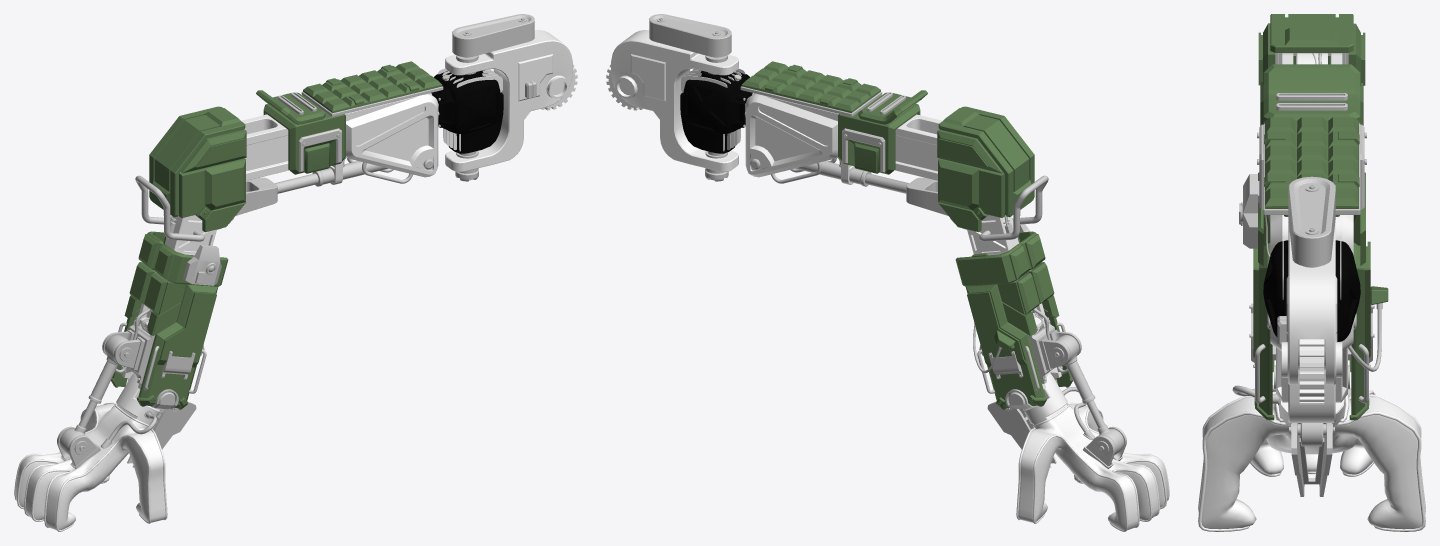
The model's file is Patte_avant_tex_meshv2.fbx.
3 views of the same model, side by side, from view 1: azimuth 30°, elevation 25°; view 2: azimuth 150°, elevation 25°; view 3: azimuth 270°, elevation 25° (orthographic). The views are drawn at different scales.
Visible parts, largest first — view 1: corps_organique_tarse, module_multi-axe_hanche_002, semi-chassis_tibia, module_multi-axe_hanche_001, blindage_metatarse010, blindage_metatarse003, blindage_tibia_002, blindage_metatarse002, chassis_tibia, blindage_tibia_001, z-axe_protector_hanche, couture_piping_tarse_01 (+16 smaller); view 2: corps_organique_tarse, module_multi-axe_hanche_002, semi-chassis_tibia, module_multi-axe_hanche_001, blindage_metatarse003, blindage_metatarse009, blindage_tibia_002, blindage_metatarse004, blindage_metatarse006, chassis_tibia, blindage_tibia_001, z-axe_protector_hanche (+15 smaller); view 3: corps_organique_tarse, module_multi-axe_hanche_002, blindage_tibia_002, blindage_tibia_003, z-axe_protector_hanche, module_multi-axe_hanche_001, blindage_metatarse003, couture_piping_tarse_01, blindage_metatarse010, blindage_metatarse009, metal_details_metatarse005, blindage_metatarse006 (+20 smaller).
Boxes of the visible parts, left/top/right/bottom form: corps_organique_tarse: left=15, top=403, right=165, bottom=530; module_multi-axe_hanche_002: left=445, top=30, right=577, bottom=171; semi-chassis_tibia: left=346, top=94, right=438, bottom=177; module_multi-axe_hanche_001: left=431, top=68, right=503, bottom=153; blindage_metatarse010: left=138, top=284, right=218, bottom=407; blindage_metatarse003: left=149, top=106, right=245, bottom=217; blindage_tibia_002: left=303, top=61, right=442, bottom=113; blindage_metatarse002: left=179, top=158, right=245, bottom=232; chassis_tibia: left=241, top=93, right=433, bottom=180; blindage_tibia_001: left=263, top=95, right=345, bottom=174; z-axe_protector_hanche: left=452, top=14, right=534, bottom=57; couture_piping_tarse_01: left=14, top=402, right=167, bottom=531; corps_organique_tarse: left=1018, top=403, right=1168, bottom=530; module_multi-axe_hanche_002: left=606, top=30, right=738, bottom=171; semi-chassis_tibia: left=745, top=94, right=837, bottom=177; module_multi-axe_hanche_001: left=680, top=68, right=752, bottom=153; blindage_metatarse003: left=938, top=106, right=1034, bottom=217; blindage_metatarse009: left=965, top=284, right=1045, bottom=407; blindage_tibia_002: left=741, top=61, right=880, bottom=113; blindage_metatarse004: left=938, top=158, right=1004, bottom=232; blindage_metatarse006: left=955, top=231, right=1045, bottom=286; chassis_tibia: left=750, top=93, right=942, bottom=180; blindage_tibia_001: left=838, top=95, right=920, bottom=174; z-axe_protector_hanche: left=649, top=14, right=731, bottom=57; corps_organique_tarse: left=1200, top=388, right=1423, bottom=529; module_multi-axe_hanche_002: left=1281, top=221, right=1342, bottom=422; blindage_tibia_002: left=1264, top=117, right=1359, bottom=208; blindage_tibia_003: left=1263, top=64, right=1360, bottom=121; z-axe_protector_hanche: left=1288, top=176, right=1335, bottom=266; module_multi-axe_hanche_001: left=1263, top=236, right=1360, bottom=341; blindage_metatarse003: left=1270, top=14, right=1353, bottom=64; couture_piping_tarse_01: left=1198, top=387, right=1425, bottom=531; blindage_metatarse010: left=1253, top=243, right=1272, bottom=414; blindage_metatarse009: left=1351, top=241, right=1370, bottom=414; metal_details_metatarse005: left=1240, top=174, right=1259, bottom=248; blindage_metatarse006: left=1258, top=172, right=1365, bottom=265.
Size of the model in its own units: 112 by 75.04 by 25.48.
